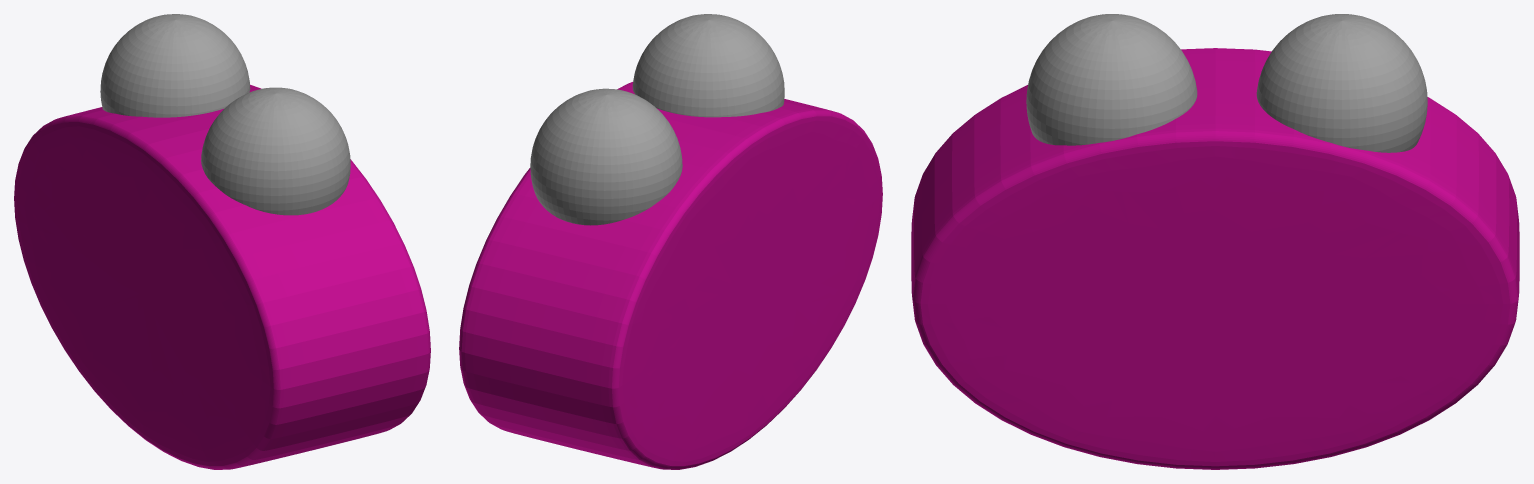
File: foreo2.glb
3 renders of one model, left to right at view 1: azimuth 30°, elevation 25°; view 2: azimuth 150°, elevation 25°; view 3: azimuth 270°, elevation 25°, orthographic. The views are drawn at different scales.
Bounding box in the file's own units: 0.1749 × 0.3776 × 0.5029.
